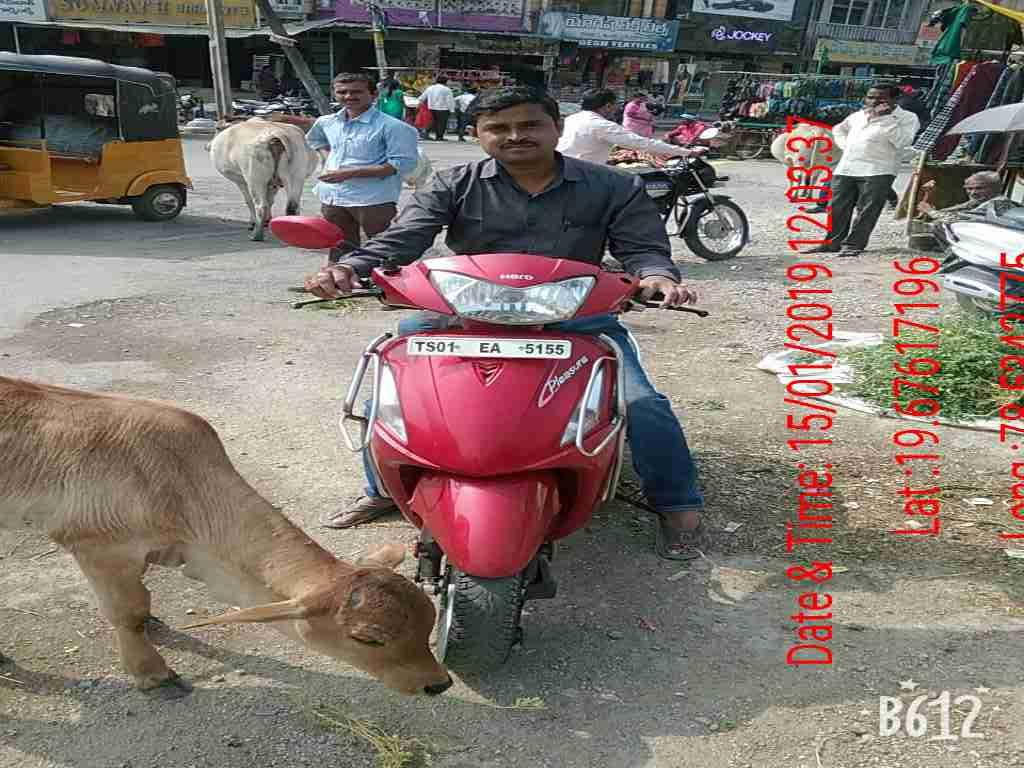plate: (407, 329, 578, 365)
